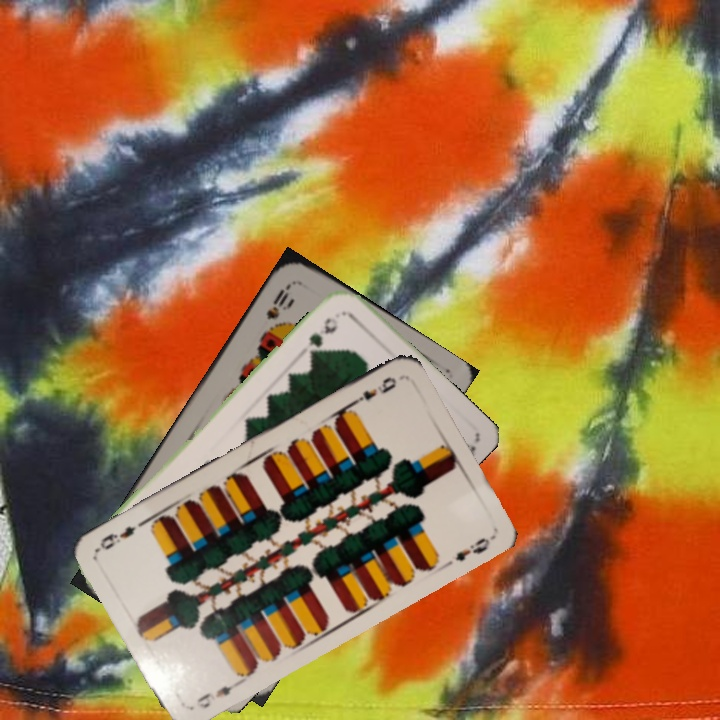E9: (347, 372, 400, 409), (192, 677, 242, 711)
G9: (304, 313, 341, 350)
S10: (262, 279, 297, 322)
